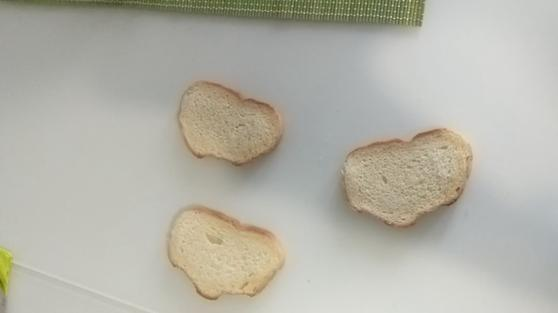white_bread: (343, 127, 474, 228), (165, 203, 284, 301), (177, 81, 284, 167)
